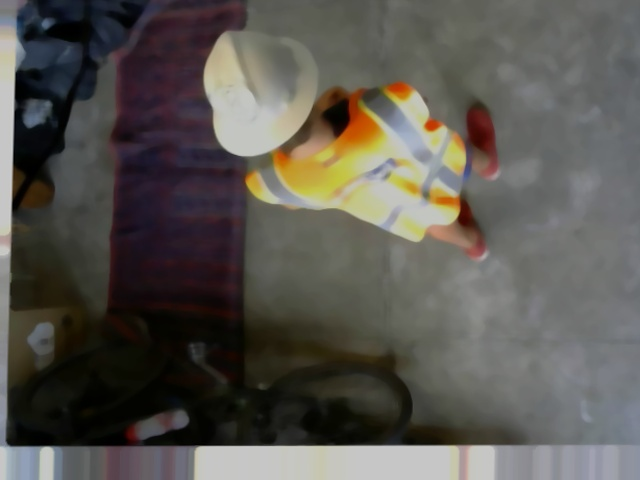eight: (207, 79, 257, 123)
